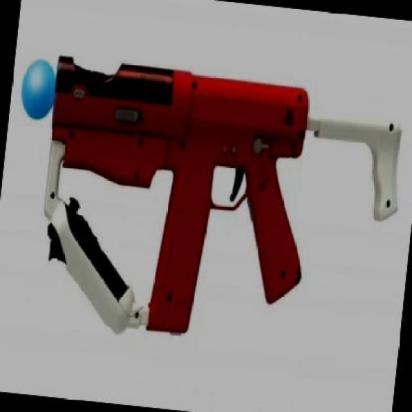Gun: (2, 34, 408, 341)
